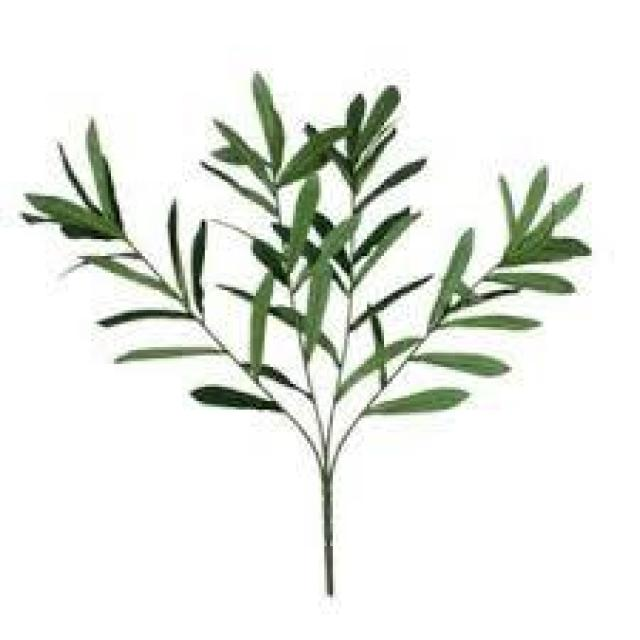Healthy: (368, 388, 468, 414), (191, 386, 279, 410), (415, 353, 506, 374)
